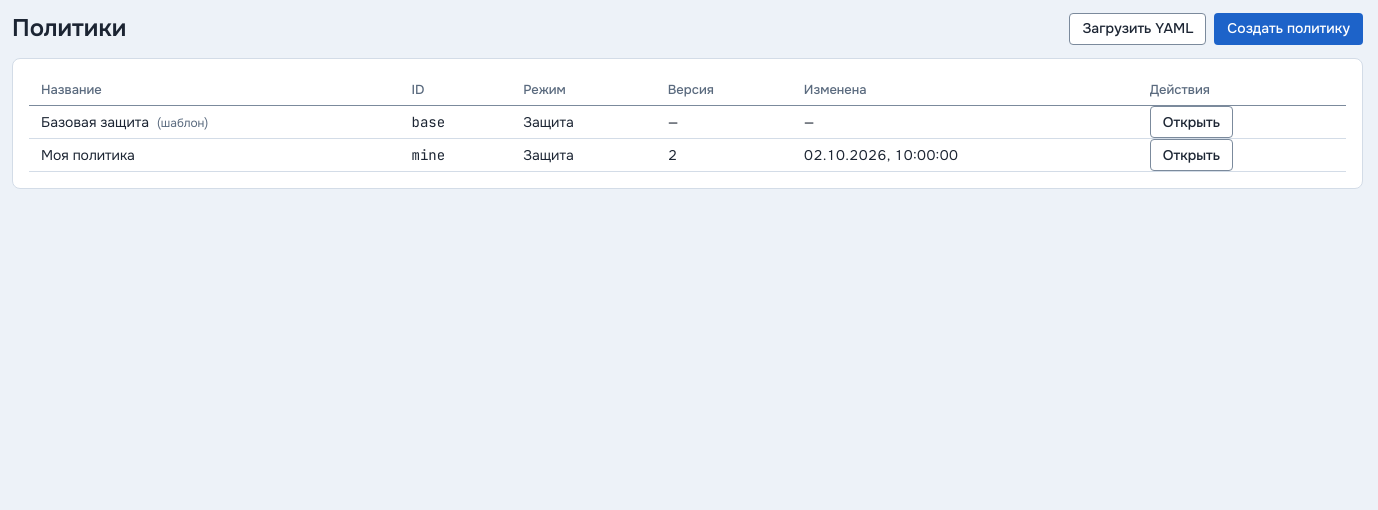
Test case: экран «Политики» › у шаблона нет версий и отката
expect the text "Базовая защита" is shown: met, box [41, 113, 149, 131]
Click the button with aria-label "Открыть политику Базовая защита".
click(1191, 122)  # box [1150, 106, 1233, 138]
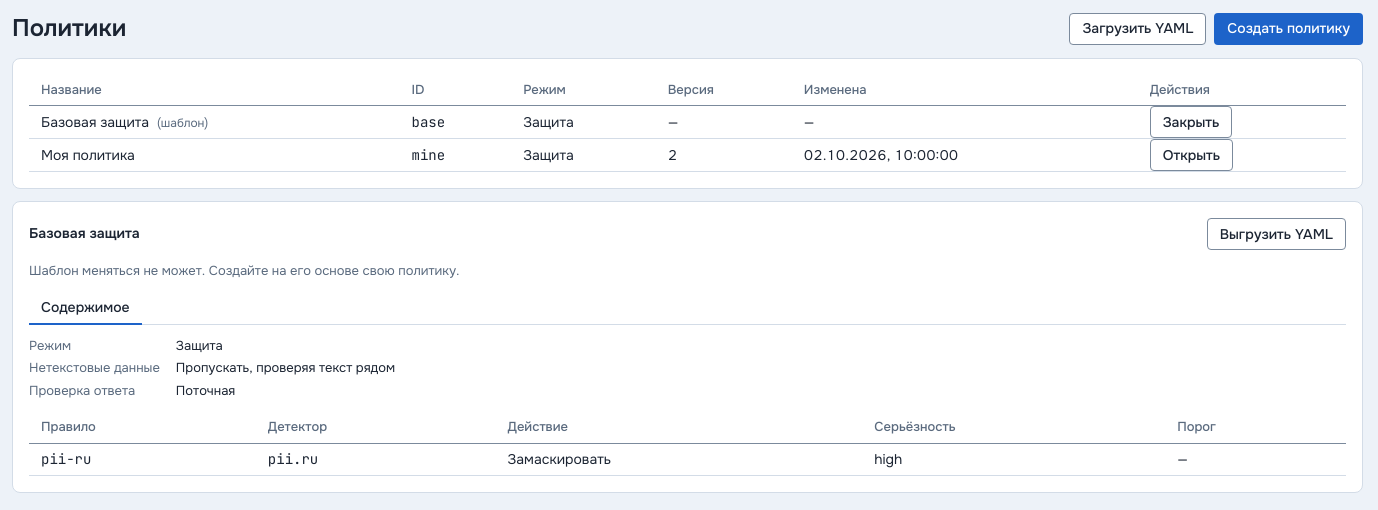
expect the text "Шаблон меняться не может" is shown: met, box [29, 262, 460, 279]
